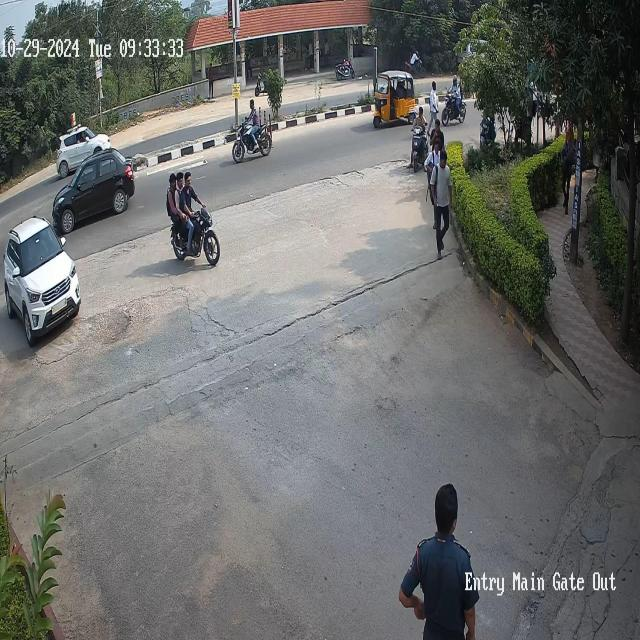triple_rider: (166, 169, 222, 267)
